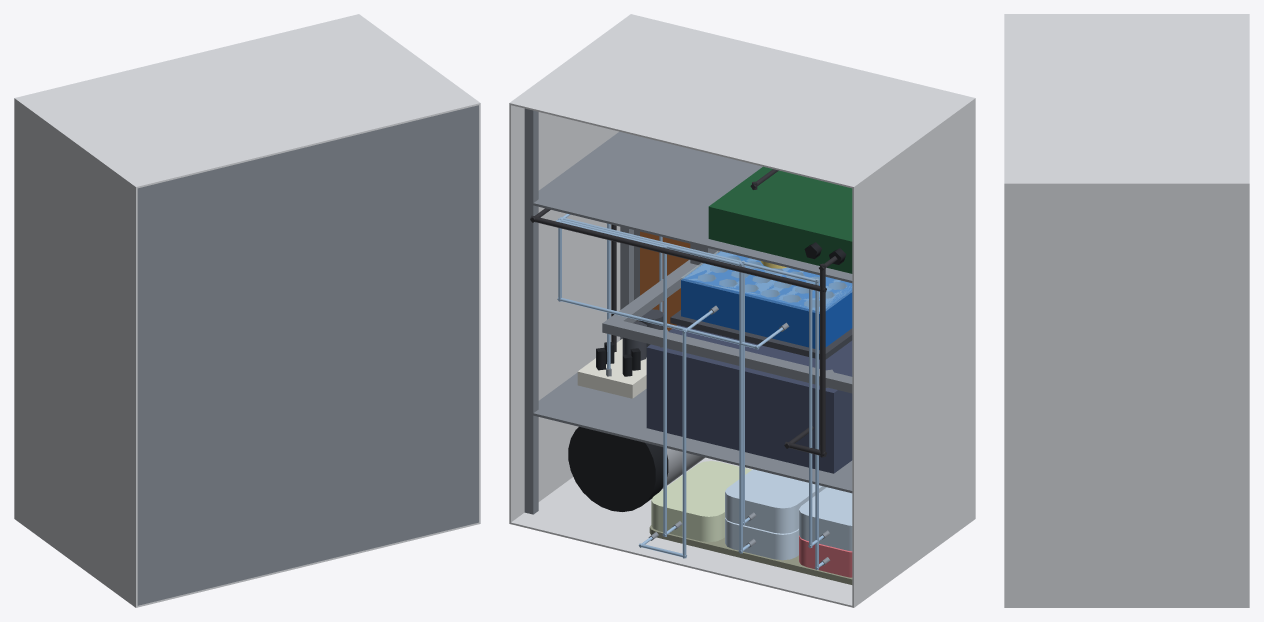
The model's file is MOD-cell-mechanobiology.glb.
The picture shows the model from 3 angles, left to right: view 1: azimuth 30°, elevation 25°; view 2: azimuth 150°, elevation 25°; view 3: azimuth 270°, elevation 25°; orthographic projection.
Visible parts, largest first — view 1: housing__back_panel_bay_interface, housing__side_panel_L, housing__top_panel, housing__bottom_panel, housing__side_panel_R; view 2: housing__side_panel_L, housing__top_panel, housing__side_panel_R, imaging__microscope_base_optics_filter_cubes_camera, housing__shelf_2, electronics__controller_enclosure_boards_data_storage, housing__bottom_panel, sample__cassette_24_wells_SBS_footprint_19_3_mm_pitch, housing__shelf_1, sample__cryo_cassette_cap, housing__corner_post_4, imaging__XY_stage_frame_travel_96_5_x_57_9_mm_every_well_ove (+22 smaller); view 3: housing__side_panel_R, housing__top_panel, housing__bottom_panel.
Boxes of the visible parts, x1,y1,x2,y2 form: housing__back_panel_bay_interface: (137, 105, 478, 605); housing__side_panel_L: (14, 100, 137, 605); housing__top_panel: (14, 14, 480, 188); housing__bottom_panel: (14, 517, 480, 607); housing__side_panel_R: (479, 105, 480, 522); housing__side_panel_L: (852, 100, 975, 605); housing__top_panel: (509, 14, 975, 188); housing__side_panel_R: (509, 105, 620, 522); imaging__microscope_base_optics_filter_cubes_camera: (646, 325, 852, 473); housing__shelf_2: (524, 131, 852, 282); electronics__controller_enclosure_boards_data_storage: (708, 166, 852, 273); housing__bottom_panel: (509, 457, 975, 607); sample__cassette_24_wells_SBS_footprint_19_3_mm_pitch: (681, 251, 852, 349); housing__shelf_1: (524, 372, 852, 493); sample__cryo_cassette_cap: (568, 427, 668, 511); housing__corner_post_4: (524, 108, 538, 514); imaging__XY_stage_frame_travel_96_5_x_57_9_mm_every_well_ove: (602, 260, 852, 393); housing__side_panel_R: (1004, 185, 1249, 606); housing__top_panel: (1004, 14, 1249, 185); housing__bottom_panel: (1004, 606, 1249, 607).
Bounding box in the file's own units: 0.313 × 0.3652 × 0.1913.
